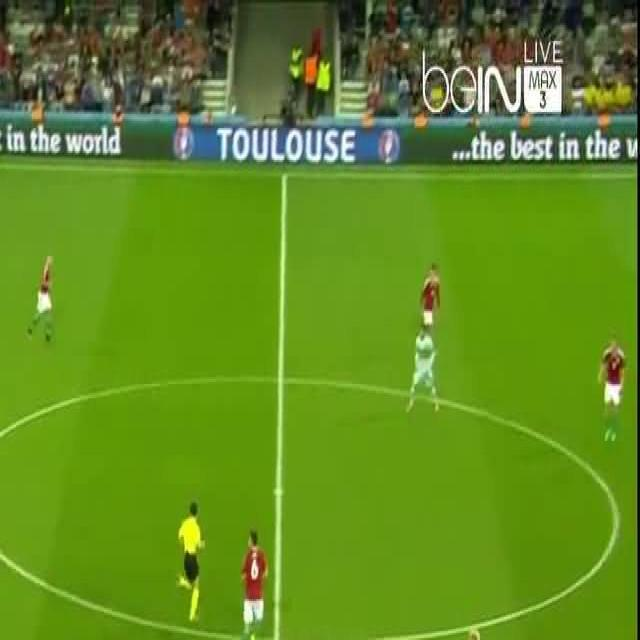player-white: (177, 502, 204, 626), (239, 529, 268, 640), (406, 327, 439, 411), (599, 338, 625, 442), (27, 257, 54, 341), (419, 262, 443, 346), (452, 629, 485, 640)
